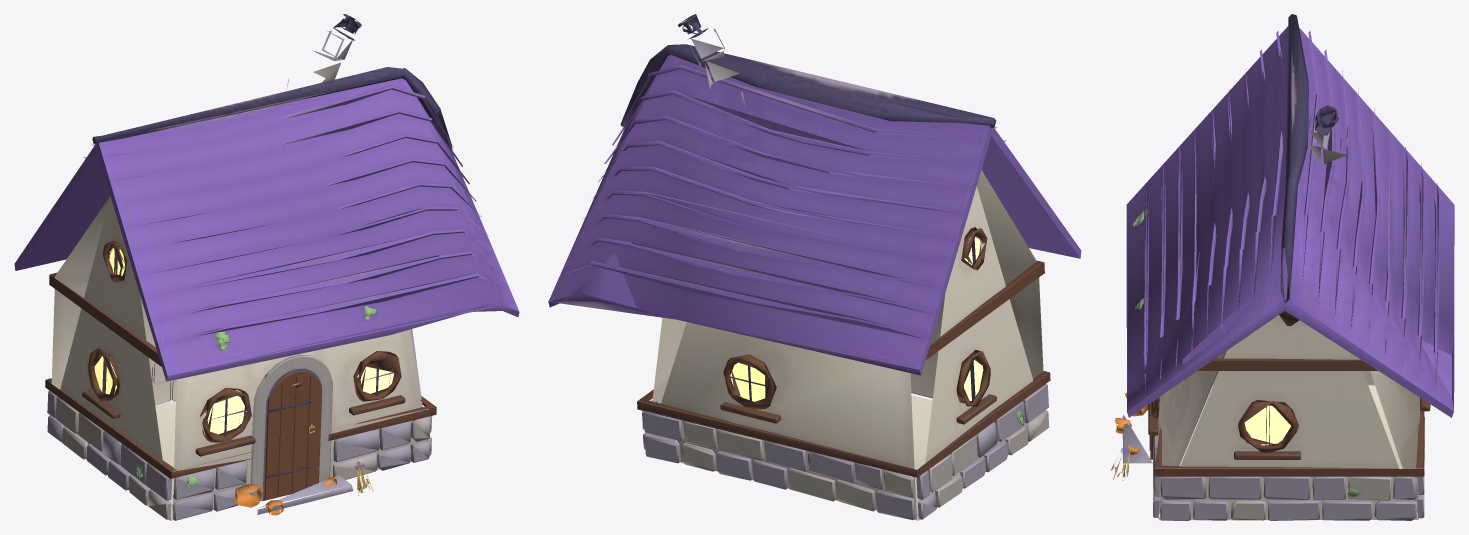
3 views of the same model, side by side, from view 1: azimuth 30°, elevation 25°; view 2: azimuth 150°, elevation 25°; view 3: azimuth 270°, elevation 25° (orthographic). The views are drawn at different scales.
Visible parts, largest first — view 1: witch-cottage_body, witch-cottage_door, witch-cottage_window_glow; view 2: witch-cottage_body, witch-cottage_window_glow; view 3: witch-cottage_body, witch-cottage_window_glow.
Part boxes in pixels (bbox=[...]): witch-cottage_body: bbox=[14, 14, 519, 520]; witch-cottage_door: bbox=[263, 370, 321, 500]; witch-cottage_window_glow: bbox=[94, 248, 394, 434]; witch-cottage_body: bbox=[548, 14, 1081, 520]; witch-cottage_window_glow: bbox=[730, 236, 983, 401]; witch-cottage_body: bbox=[1110, 14, 1454, 520]; witch-cottage_window_glow: bbox=[1244, 405, 1290, 445].
Size of the model in its own units: 6.12 by 6.26 by 4.73.
Materials: 3 (2 with a texture image).
